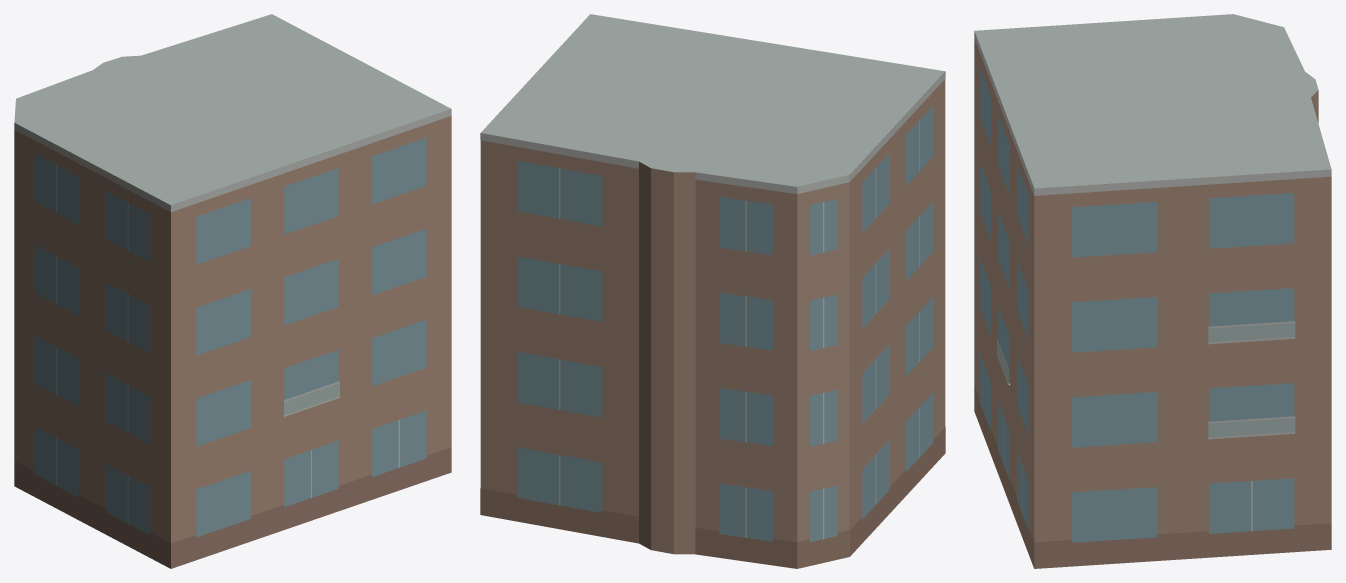
File: survey-upis-33001695.glb
The picture shows the model from 3 angles, left to right: view 1: azimuth 30°, elevation 25°; view 2: azimuth 150°, elevation 25°; view 3: azimuth 270°, elevation 25°; orthographic projection. The views are drawn at different scales.
Visible parts, largest first — view 1: survey-upis-33001695.tmp; view 2: survey-upis-33001695.tmp; view 3: survey-upis-33001695.tmp.
Part boxes in pixels (x1,y1,x2,y2): survey-upis-33001695.tmp: (14,14,451,568); survey-upis-33001695.tmp: (480,14,945,568); survey-upis-33001695.tmp: (974,14,1331,568).
Bounding box in the file's own units: 12.61 × 12.8 × 10.91.
